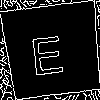E: (27, 25, 67, 76)
